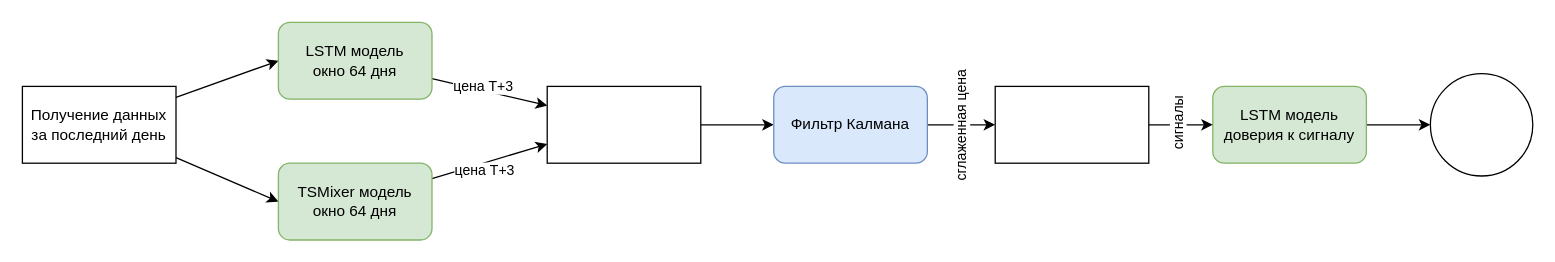
This 1555x262 diagram has some shape labels left out. Here are the shapes that lost their labels. From the top down, the box of each, then its label:
(546, 85, 701, 163): Арифметическое среднее
(994, 85, 1149, 163): Простая Стратегия на "Если ..."
(1429, 72, 1533, 176): Финальная рекомендация
